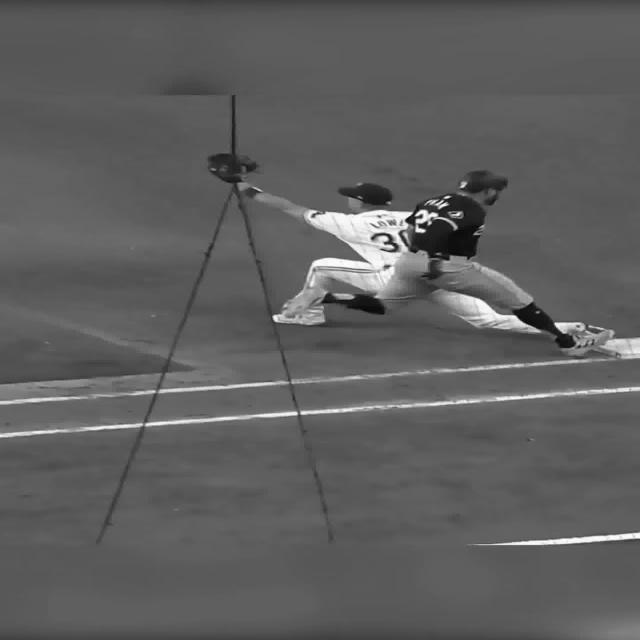base: (594, 336, 640, 357)
baseball_glove: (205, 152, 258, 182)
shoe: (553, 322, 615, 357), (305, 289, 345, 308), (271, 313, 325, 325)
